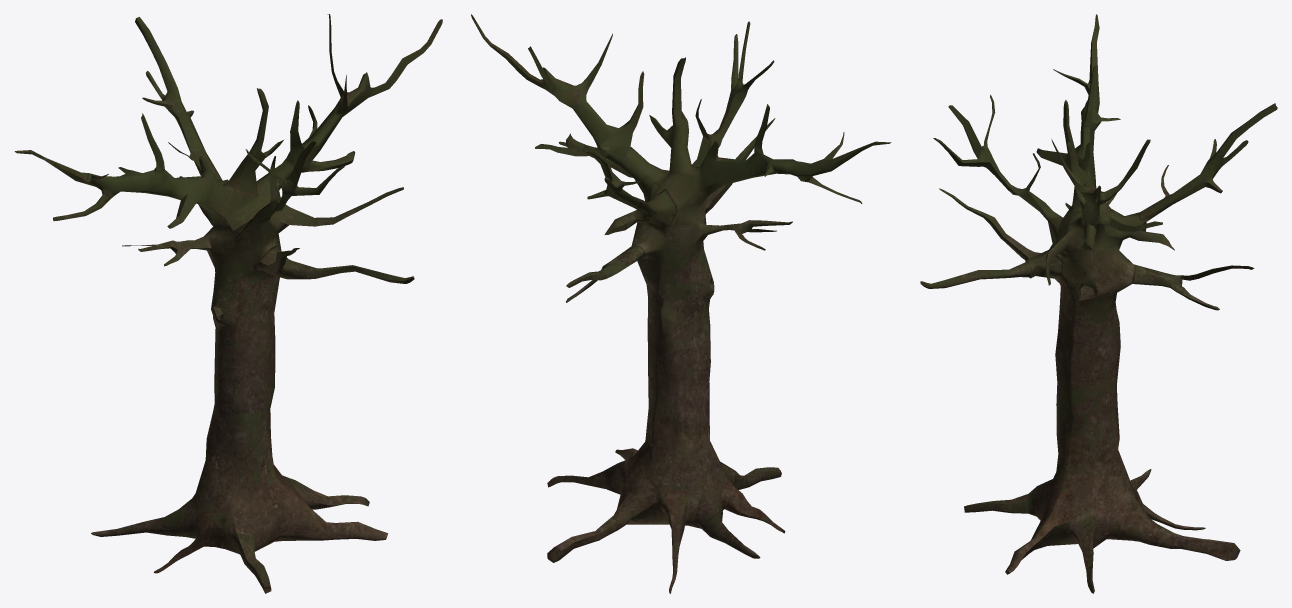
Rendered from tree_bare.glb.
The picture shows the model from 3 angles, left to right: view 1: azimuth 30°, elevation 25°; view 2: azimuth 150°, elevation 25°; view 3: azimuth 270°, elevation 25°; orthographic projection. The views are drawn at different scales.
Visible parts, largest first — view 1: Tree_Tree_0; view 2: Tree_Tree_0; view 3: Tree_Tree_0.
Part boxes in pixels (x1,y1,x2,y2): Tree_Tree_0: [14, 14, 442, 593]; Tree_Tree_0: [471, 14, 891, 593]; Tree_Tree_0: [920, 14, 1277, 593].
Size of the model in its own units: 0.9019 by 0.9938 by 0.6859.
Materials: 1 (1 with a texture image).
